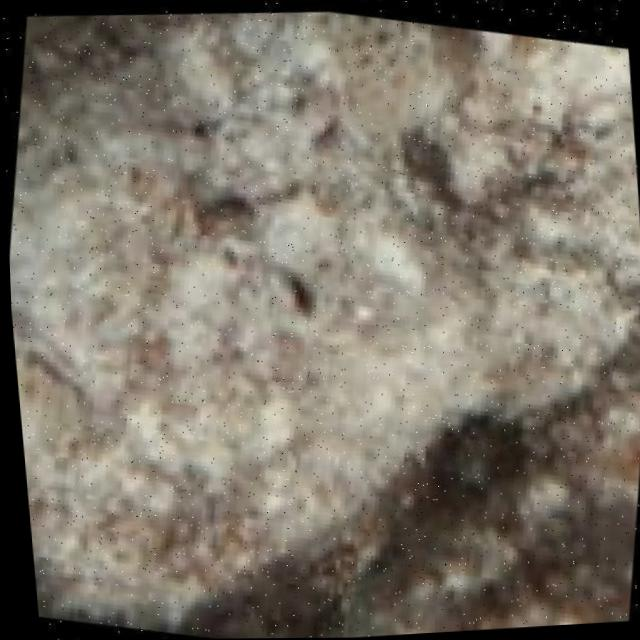Bleached Coral: (4, 60, 625, 589)
